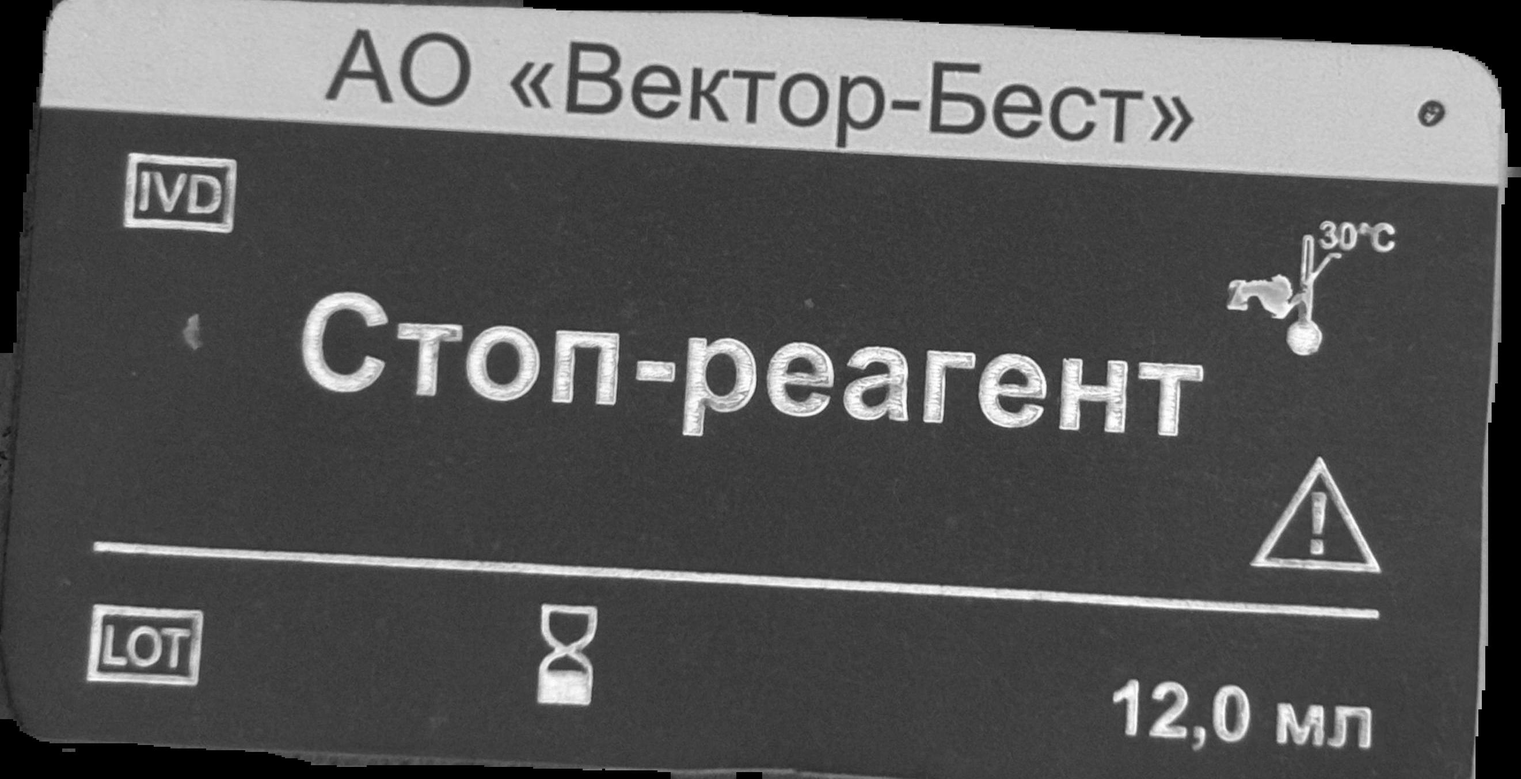something: (1224, 219, 1396, 356), (1248, 453, 1385, 576), (118, 144, 240, 241), (83, 604, 205, 688), (533, 602, 601, 708)
text: (299, 289, 1206, 440), (322, 27, 1200, 149), (1115, 679, 1378, 754)
